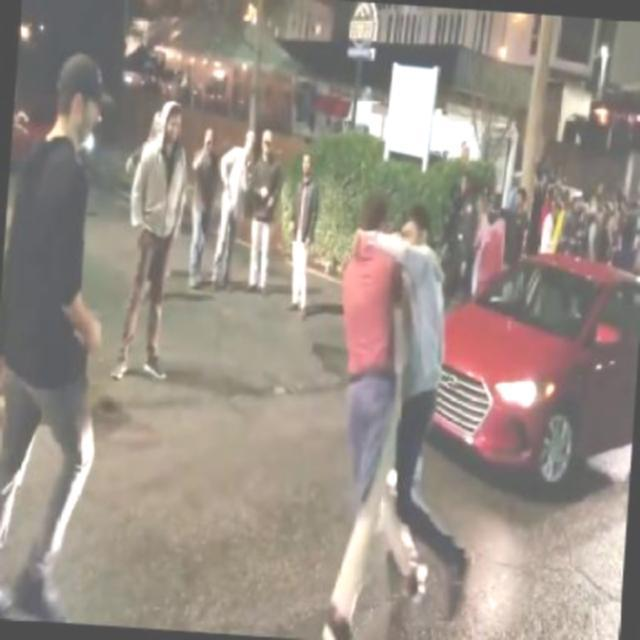fight: (308, 192, 450, 638)
non-fight: (0, 41, 117, 624), (117, 94, 192, 377), (186, 118, 286, 284), (286, 144, 328, 306)
